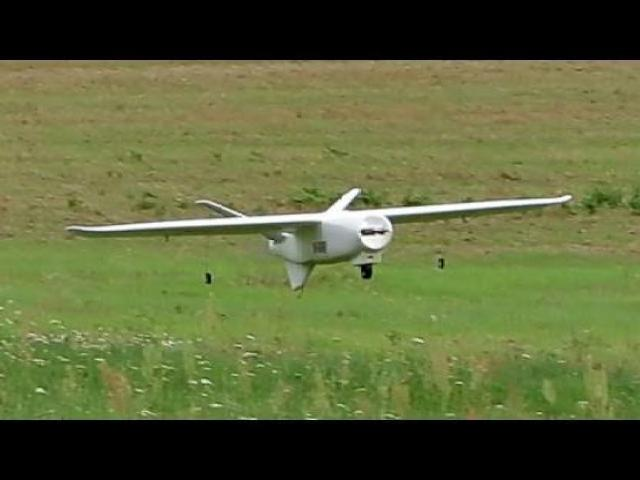uav: (62, 184, 572, 268)
